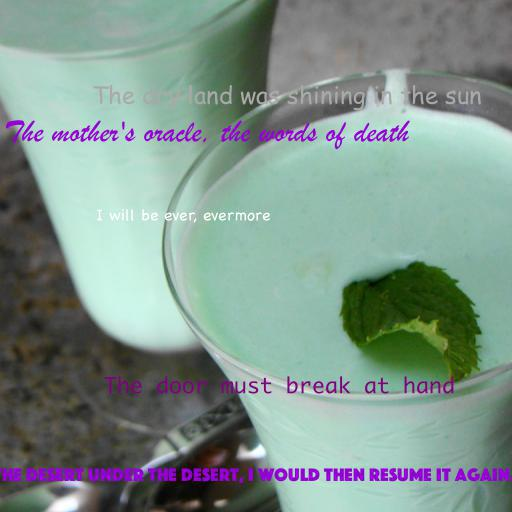Brush Script MT: (3, 120, 409, 150)
Chalkboard: (96, 209, 270, 223)
Comic Sans MS: (92, 84, 482, 111)
Monaco: (103, 376, 455, 394)
Phosphate: (0, 468, 512, 483)
